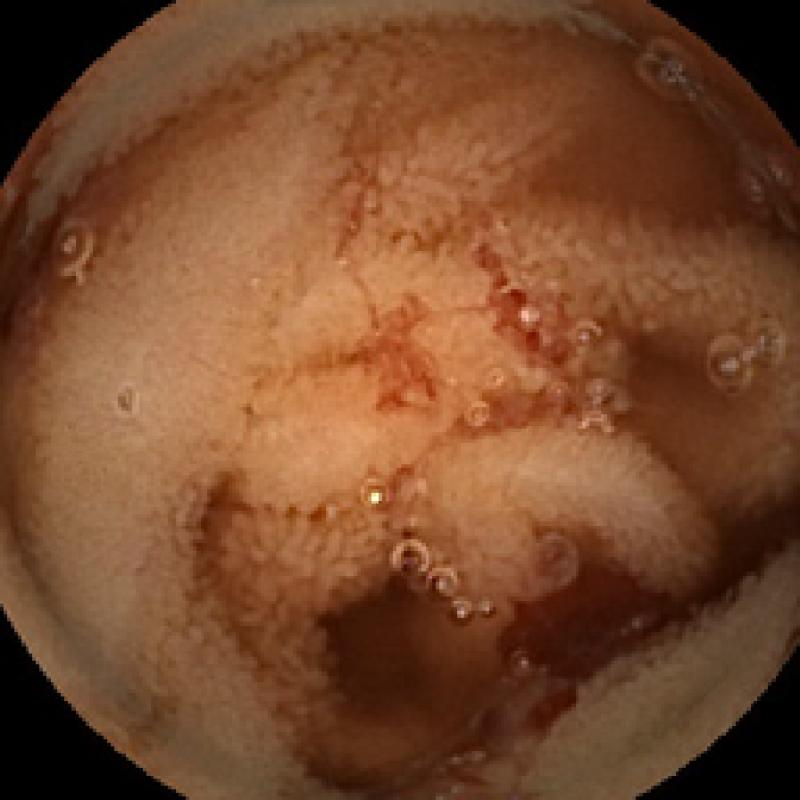bleeding: (493, 468, 800, 728), (464, 232, 579, 386), (337, 302, 438, 410)
